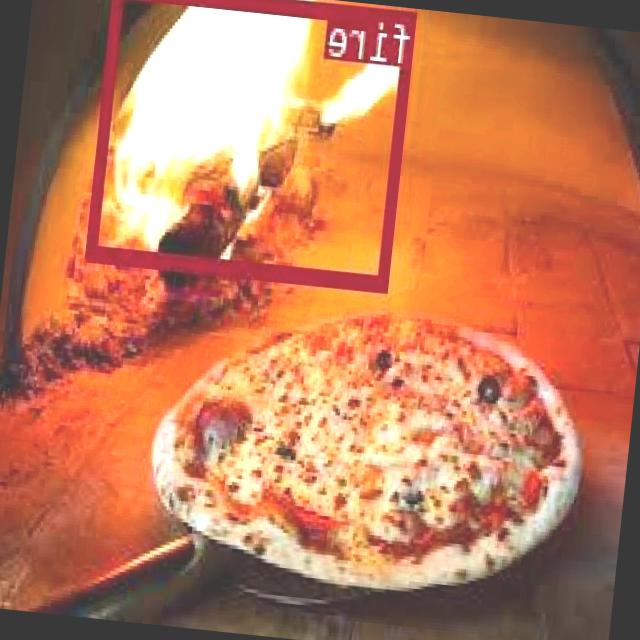fire: (86, 0, 417, 287)
